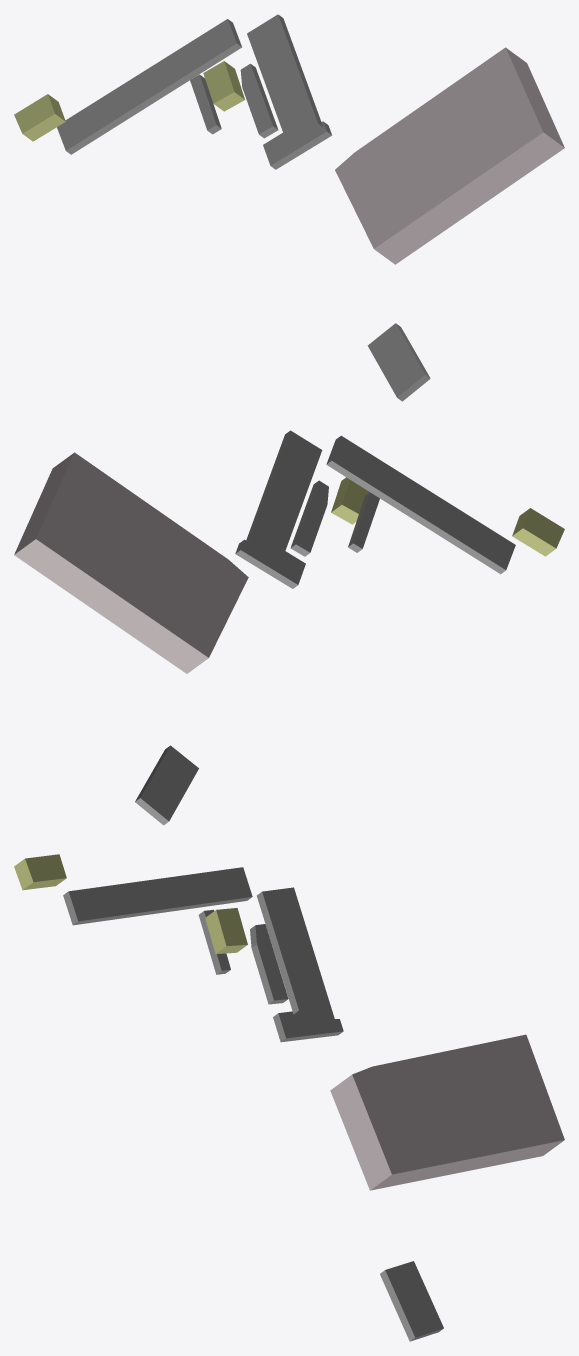
3 views of the same model, one above another, from view 1: azimuth 30°, elevation 25°; view 2: azimuth 150°, elevation 25°; view 3: azimuth 330°, elevation 25° (orthographic).
Visible parts, largest first — view 1: 0_1_0_2_0_2_2; view 2: 0_1_0_2_0_2_2; view 3: 0_1_0_2_0_2_2.
Boxes of the visible parts, x1,y1,x2,y2 form: 0_1_0_2_0_2_2: [14, 14, 564, 401]; 0_1_0_2_0_2_2: [14, 430, 564, 825]; 0_1_0_2_0_2_2: [14, 854, 564, 1341].
Bounding box in the file's own units: 170 × 129 × 12.1.
